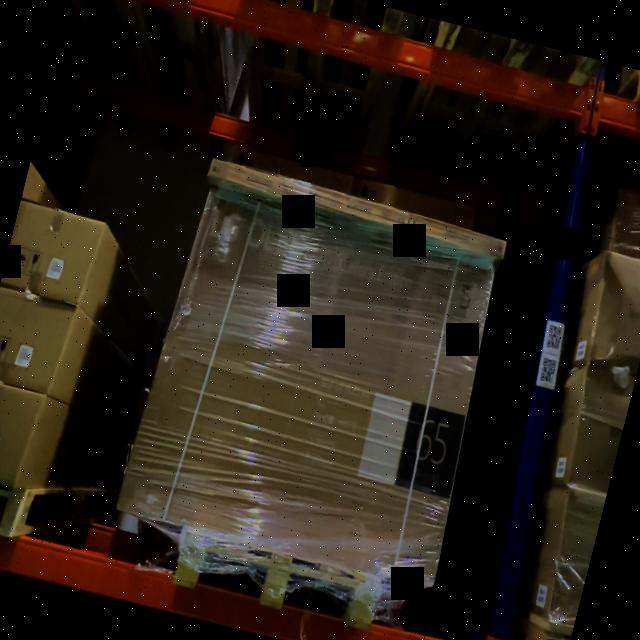box: (130, 199, 495, 579), (306, 183, 412, 234), (208, 156, 310, 208), (409, 213, 508, 253)
